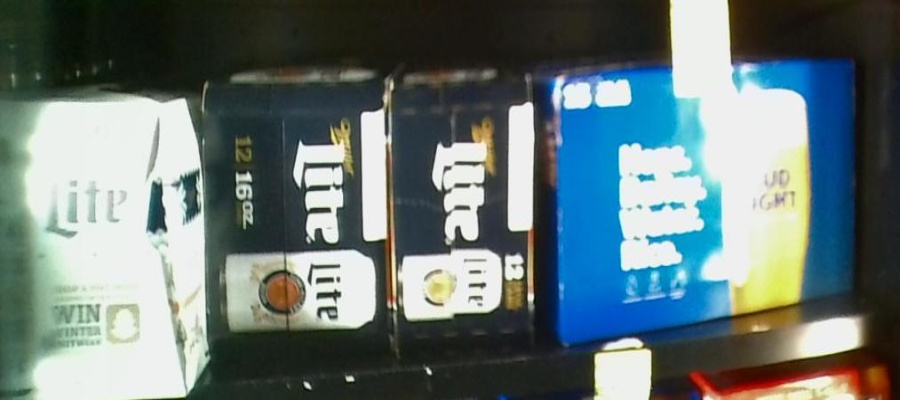bottle: (542, 61, 862, 323), (1, 93, 203, 396), (202, 63, 388, 362), (388, 74, 536, 343)
